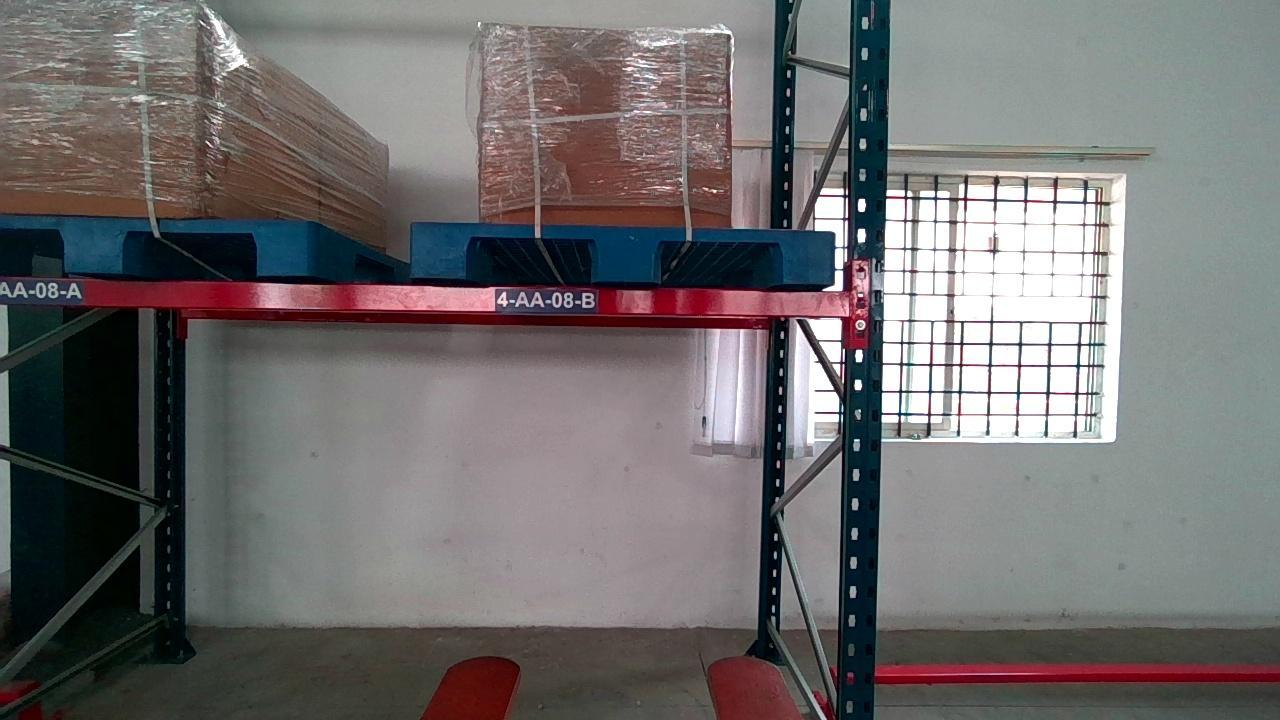h_rack: (2, 275, 855, 315)
small_pallet: (413, 220, 835, 287), (7, 213, 318, 283)
